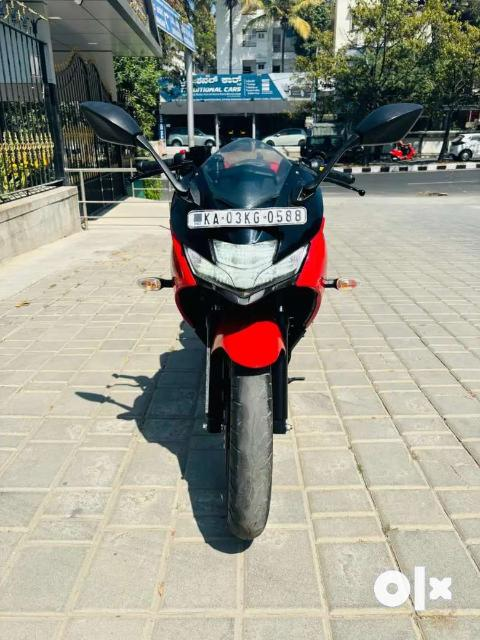Indian_Number_Plate: (190, 208, 307, 227)
